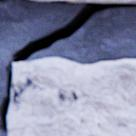brick: (9, 58, 135, 135), (33, 0, 135, 2)
crack: (0, 2, 135, 135)
